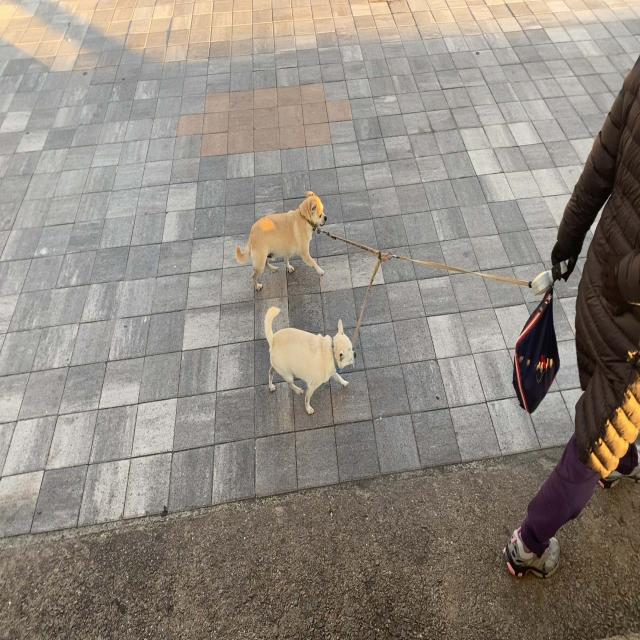Leashed_Dog: (266, 258, 622, 417), (236, 190, 618, 292)
